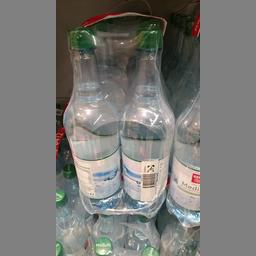water: (116, 22, 172, 220), (62, 26, 121, 210)
